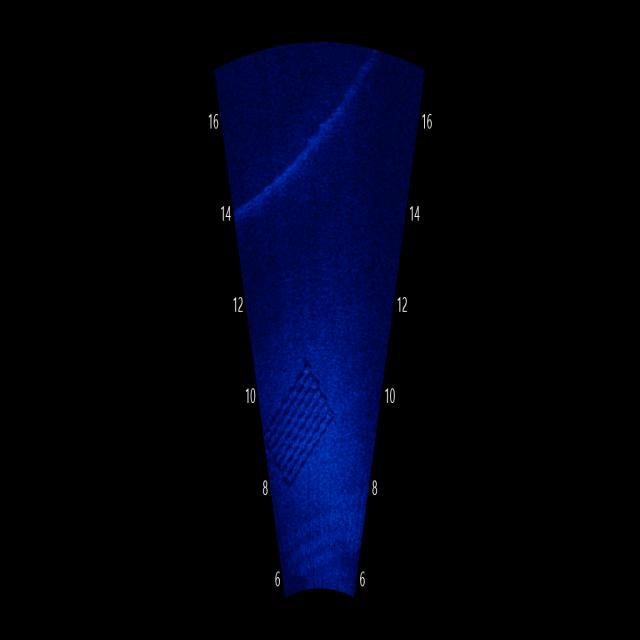square: (270, 325, 344, 495)
